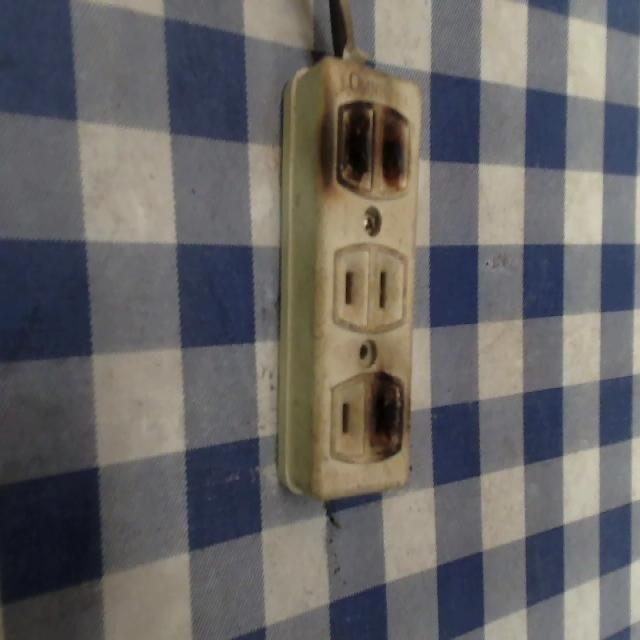-: (310, 88, 416, 201), (364, 364, 412, 463)
